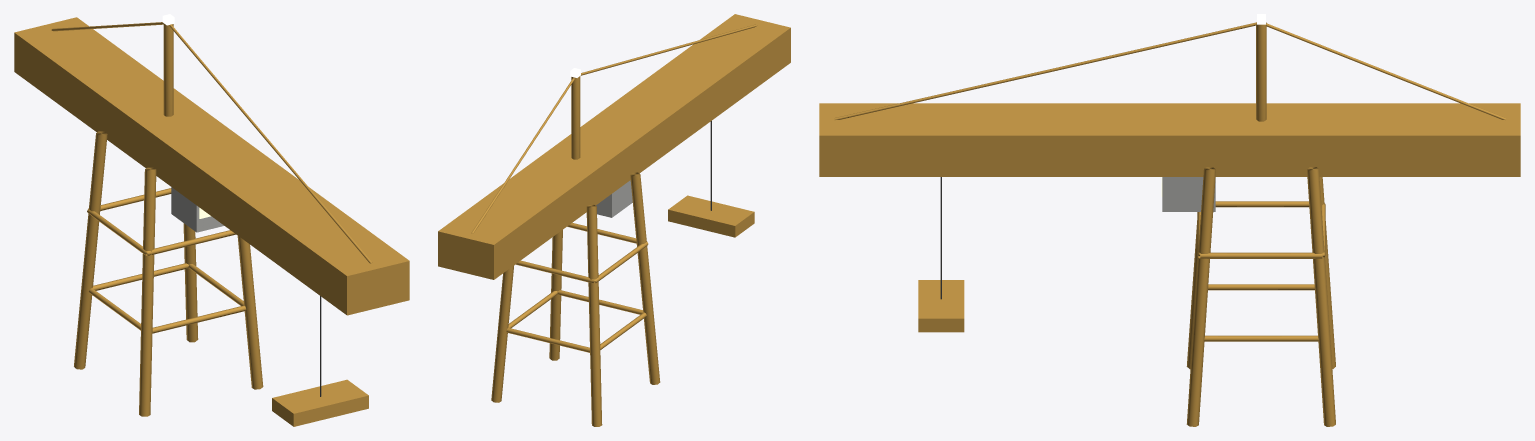
Rendered from crane.glb.
The picture shows the model from 3 angles, left to right: view 1: azimuth 30°, elevation 25°; view 2: azimuth 150°, elevation 25°; view 3: azimuth 270°, elevation 25°; orthographic projection. The views are drawn at different scales.
Visible parts, largest first — view 1: Crane; view 2: Crane; view 3: Crane.
Part boxes in pixels (x1,y1,x2,y2): Crane: (14,14,409,426); Crane: (438,14,790,426); Crane: (819,14,1520,426).
Size of the model in its own units: 19.38 by 55.07 by 92.
